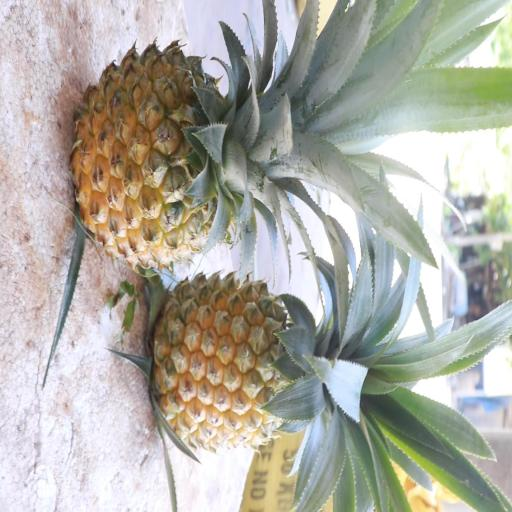Pineapple - v8 v1: (67, 39, 318, 278), (145, 267, 381, 462)
